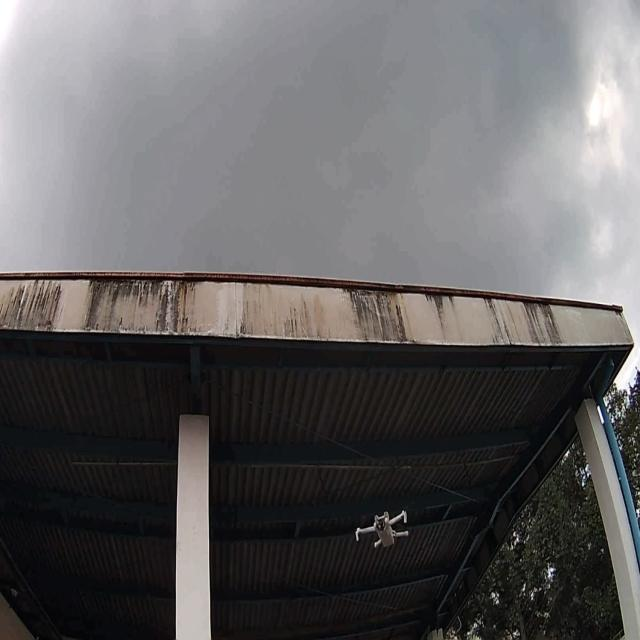drone: (355, 508, 409, 550)
